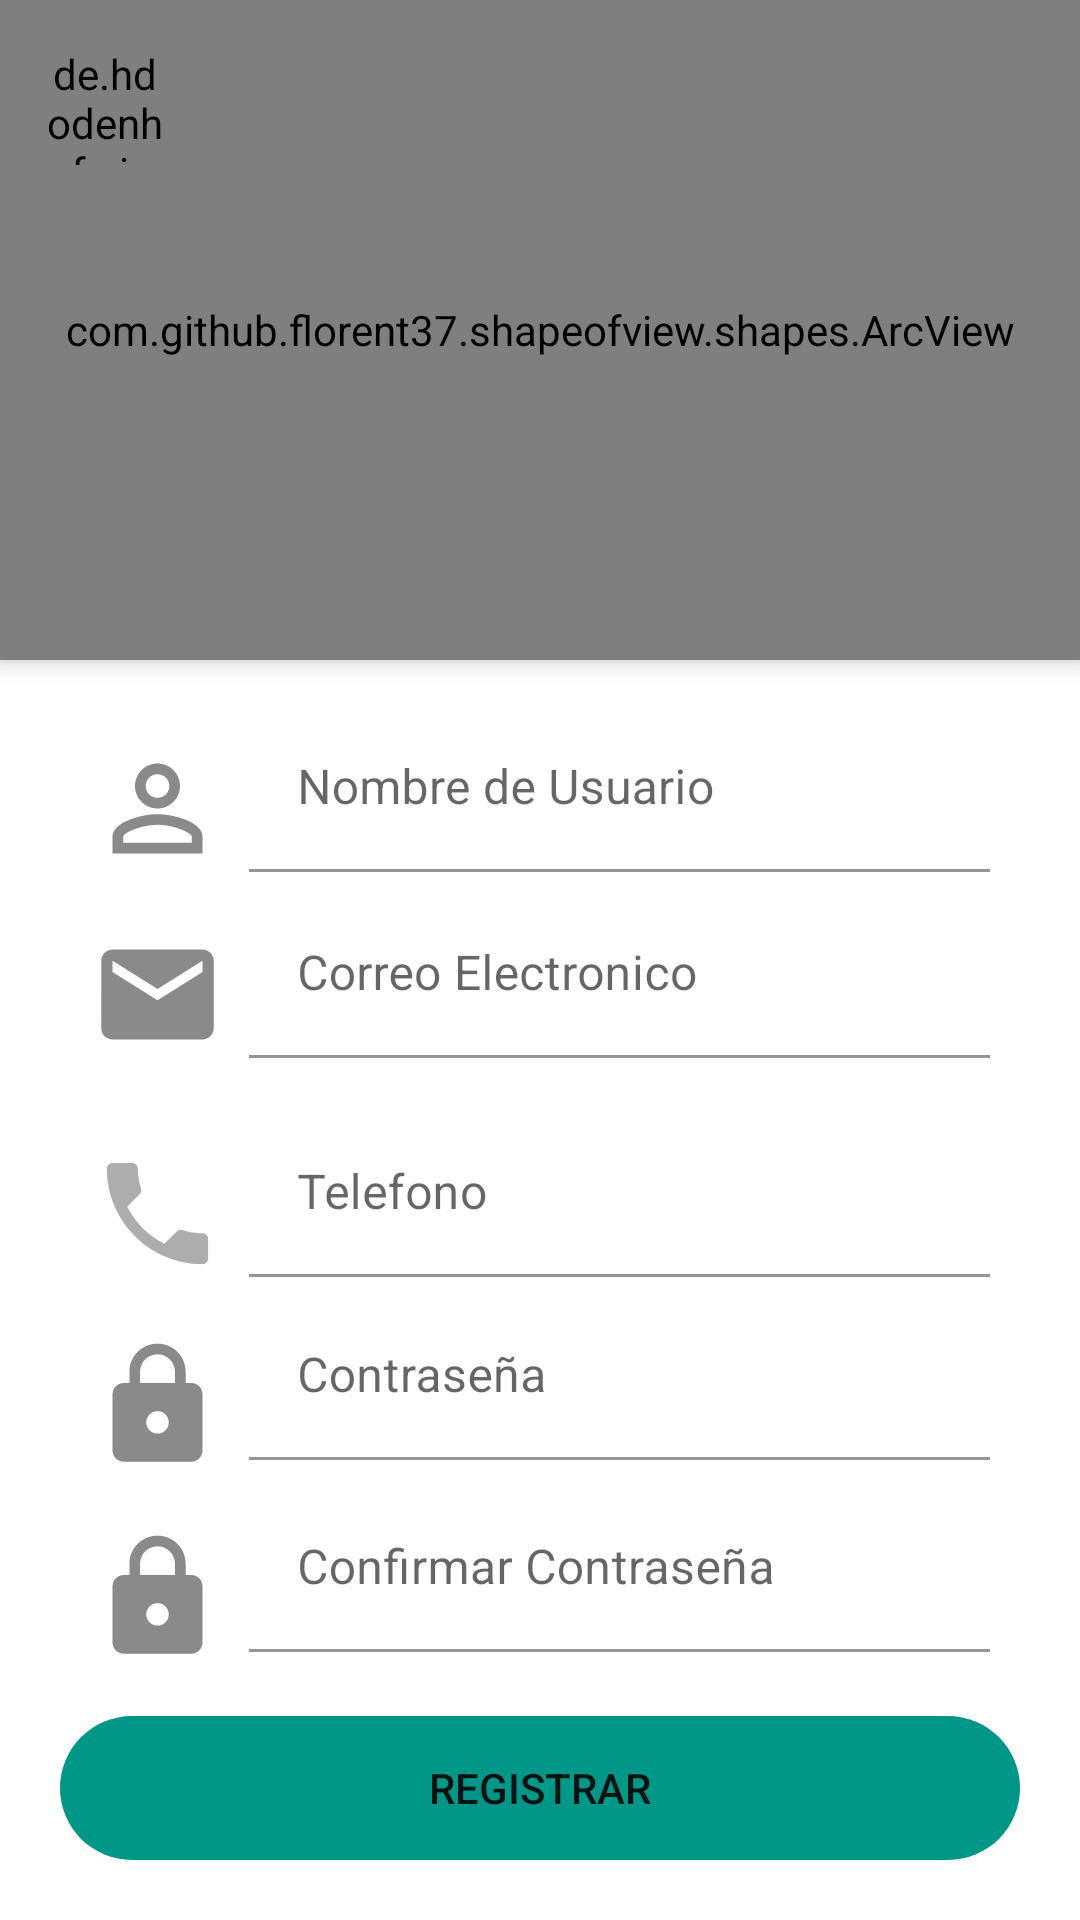

Named icons in this screenshot (1080 × 1920) and their centers, (x,y):
email: (157,994)
password: (157,1402), (157,1594)
person: (157,808)
phone: (157,1213)
